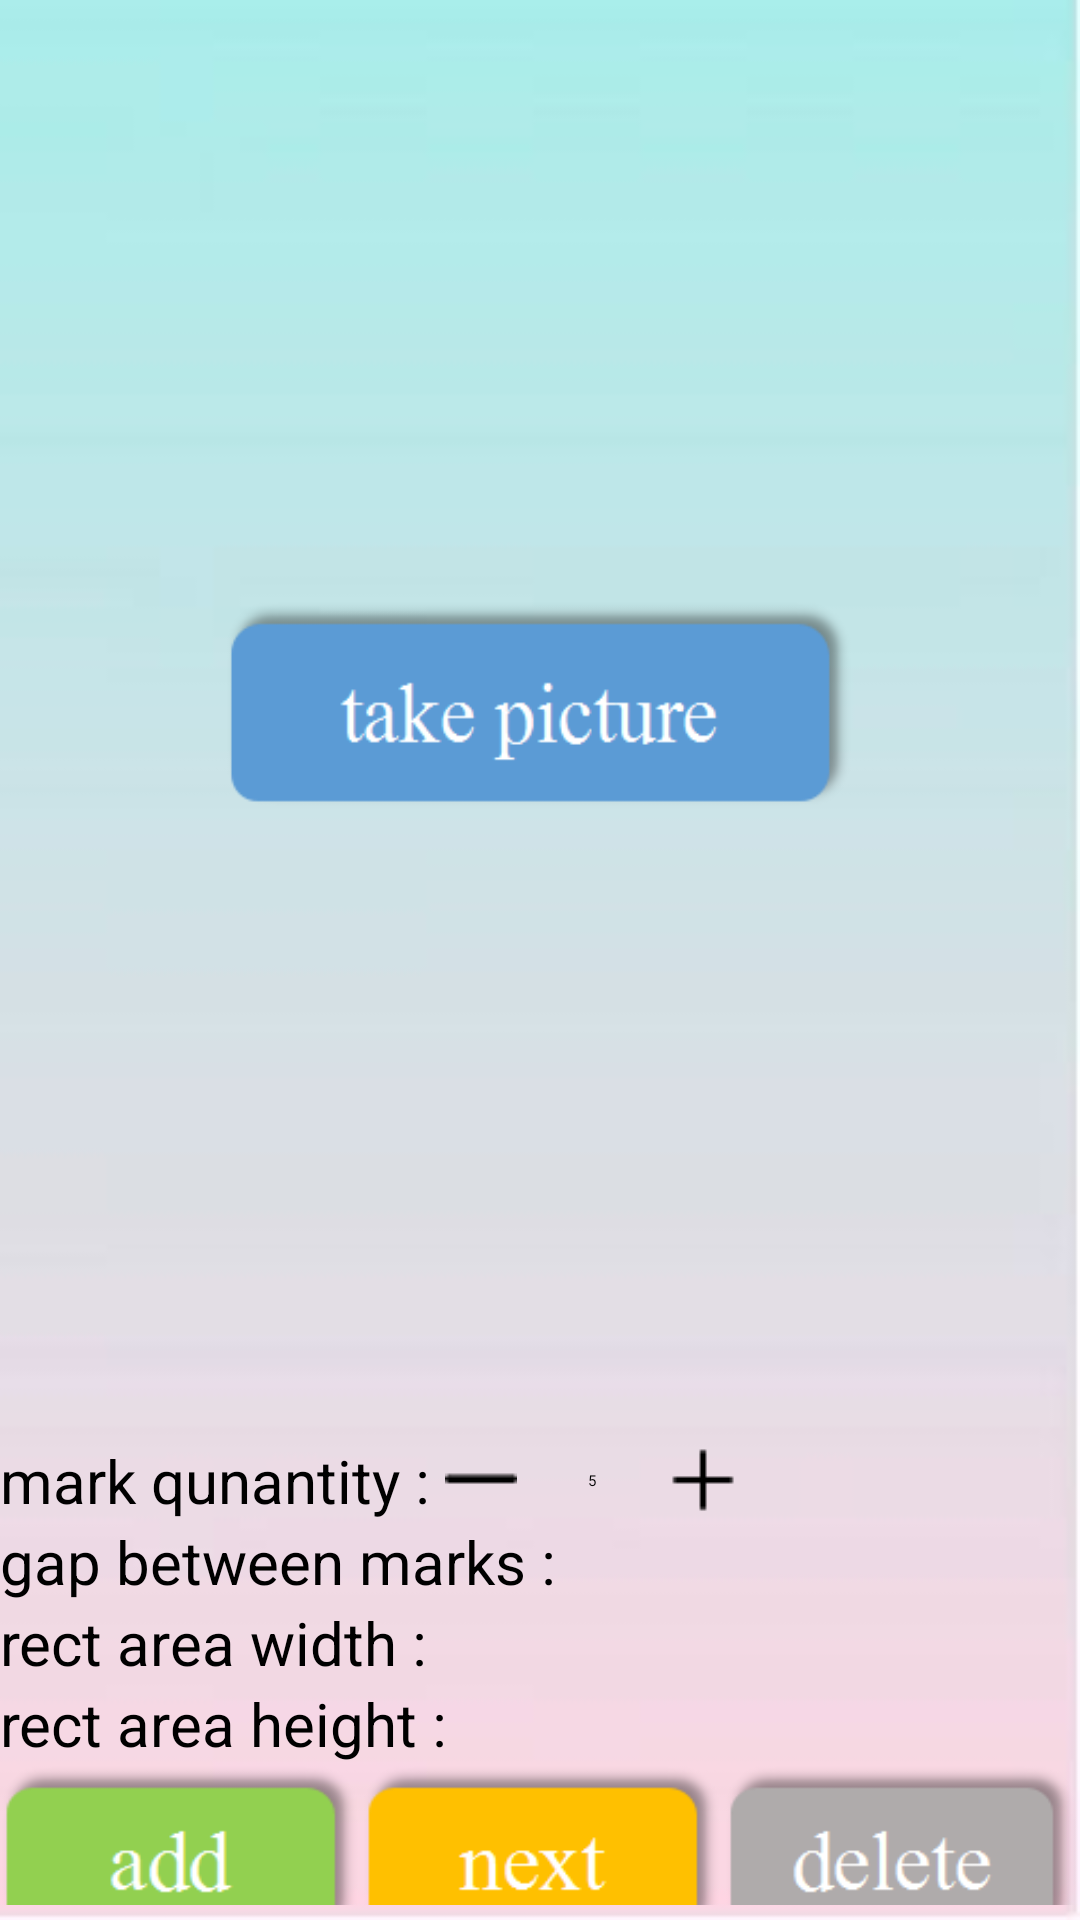

Named icons in this screenshot (1080w x 1920h) and their bounding boxes, (x1, y1, x2, y2):
plus: (672, 1449, 734, 1511)
